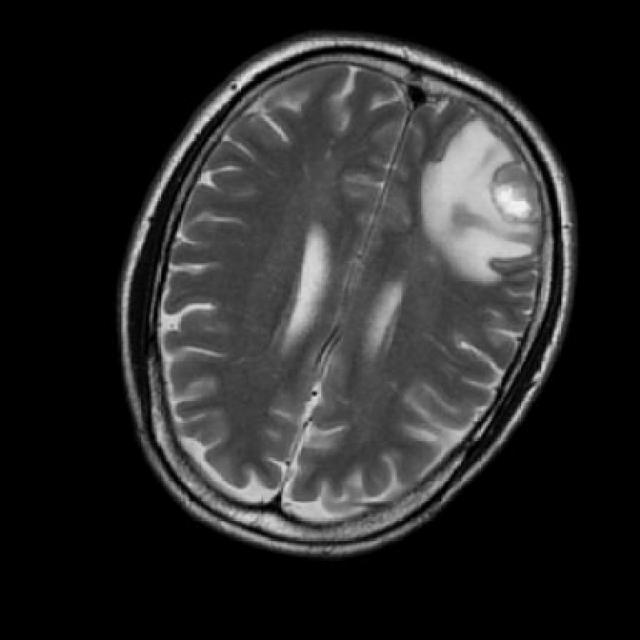Brain-Tumor: (410, 105, 577, 298)
